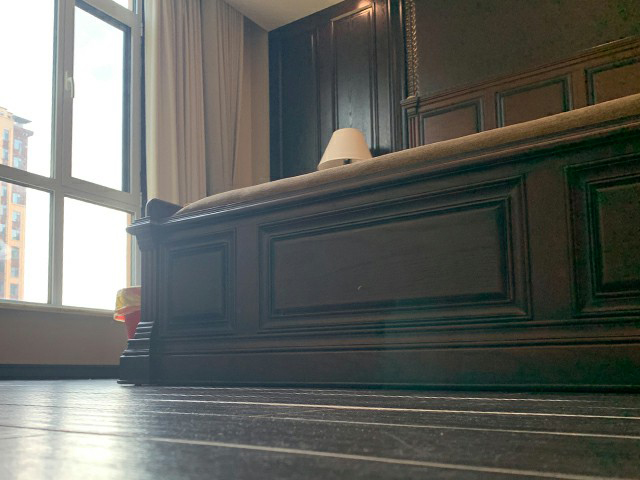stool: (117, 92, 640, 394)
